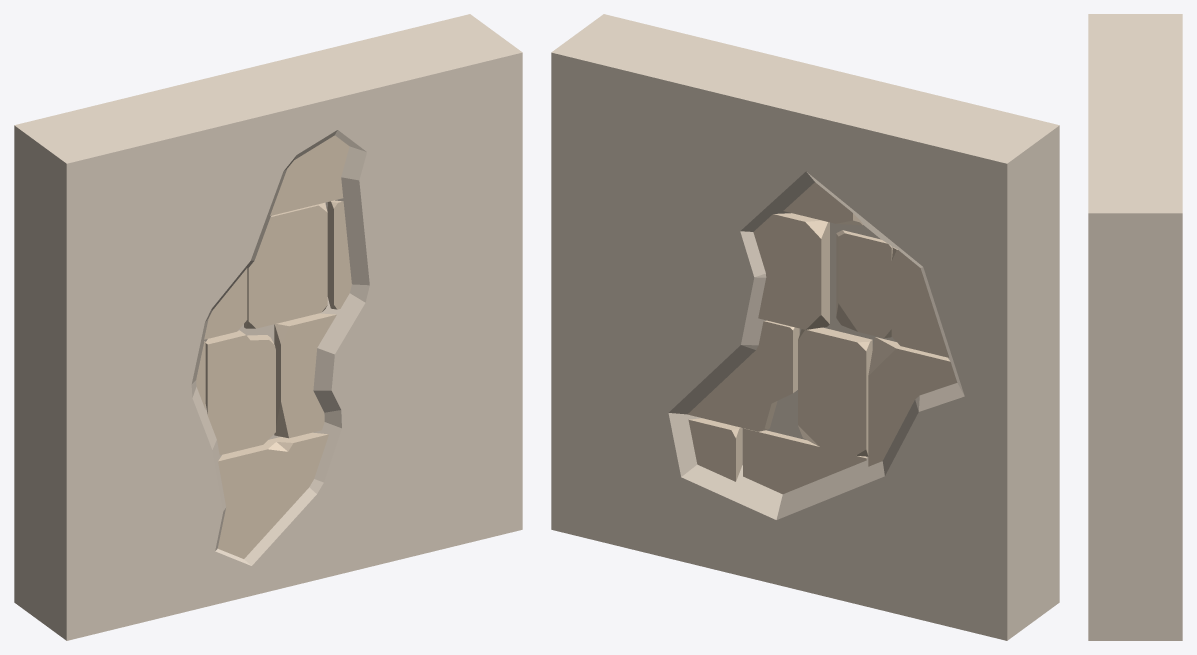
Rendered from temple_Wall_Ruined_Full_1.glb.
The picture shows the model from 3 angles, left to right: view 1: azimuth 30°, elevation 25°; view 2: azimuth 150°, elevation 25°; view 3: azimuth 270°, elevation 25°; orthographic projection. The views are drawn at different scales.
Parts seen in each view (by area): view 1: object1; view 2: object1; view 3: object1.
Boxes of the visible parts, box(x1,y1,x2,y2) form: object1: box(14, 14, 522, 640); object1: box(551, 14, 1059, 640); object1: box(1088, 14, 1182, 640).
Size of the model in its own units: 1 by 1 by 0.2.
